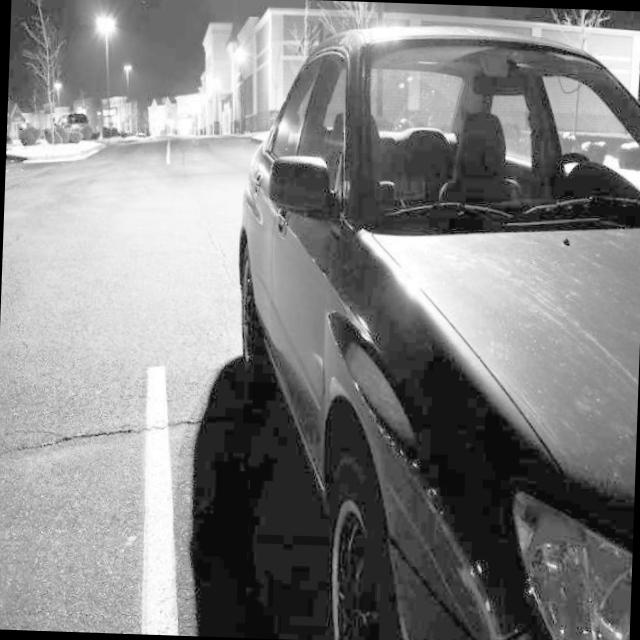Car: (211, 22, 640, 640), (48, 90, 120, 145)
